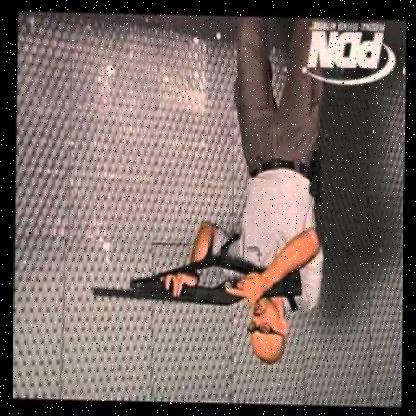rifle: (86, 257, 308, 310)
